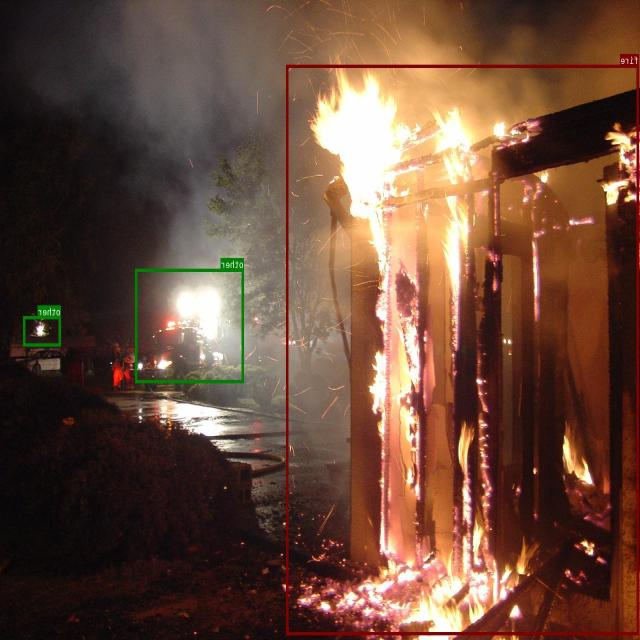fire: (287, 64, 639, 634)
other: (136, 268, 244, 382), (24, 316, 61, 346)
